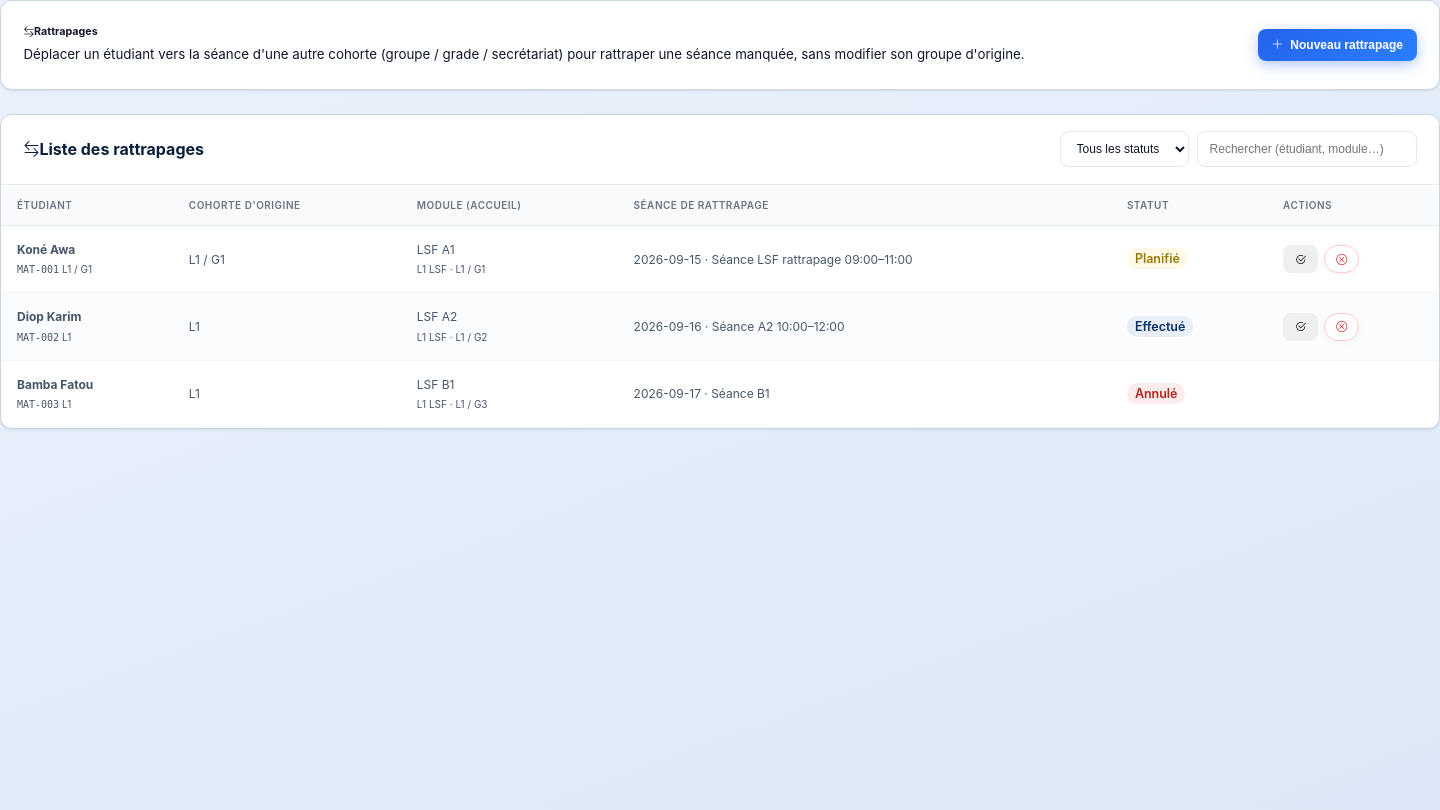
Test: Rattrapages — création › permet de retirer une séance sélectionnée
Expected: the text "MAT-001" is shown, [17, 264, 59, 275]
Click the button "Nouveau rattrapage" at (1337, 45), box [1258, 29, 1417, 61]
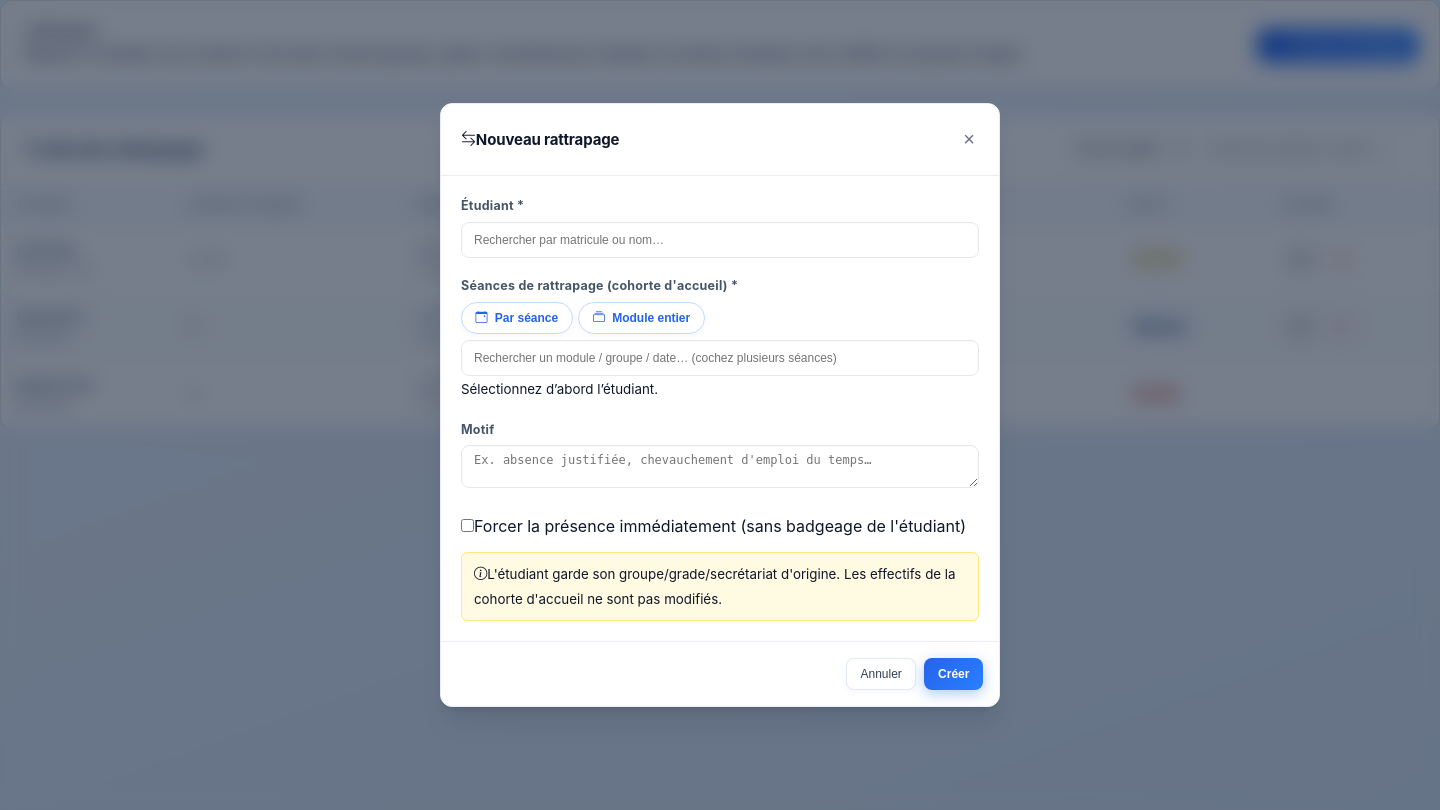
Expected: the heading "Nouveau rattrapage" is shown, [461, 128, 619, 152]
Focus the field with placeholder "Rechercher par matricule ou nom…" at (720, 240), box [461, 222, 979, 258]
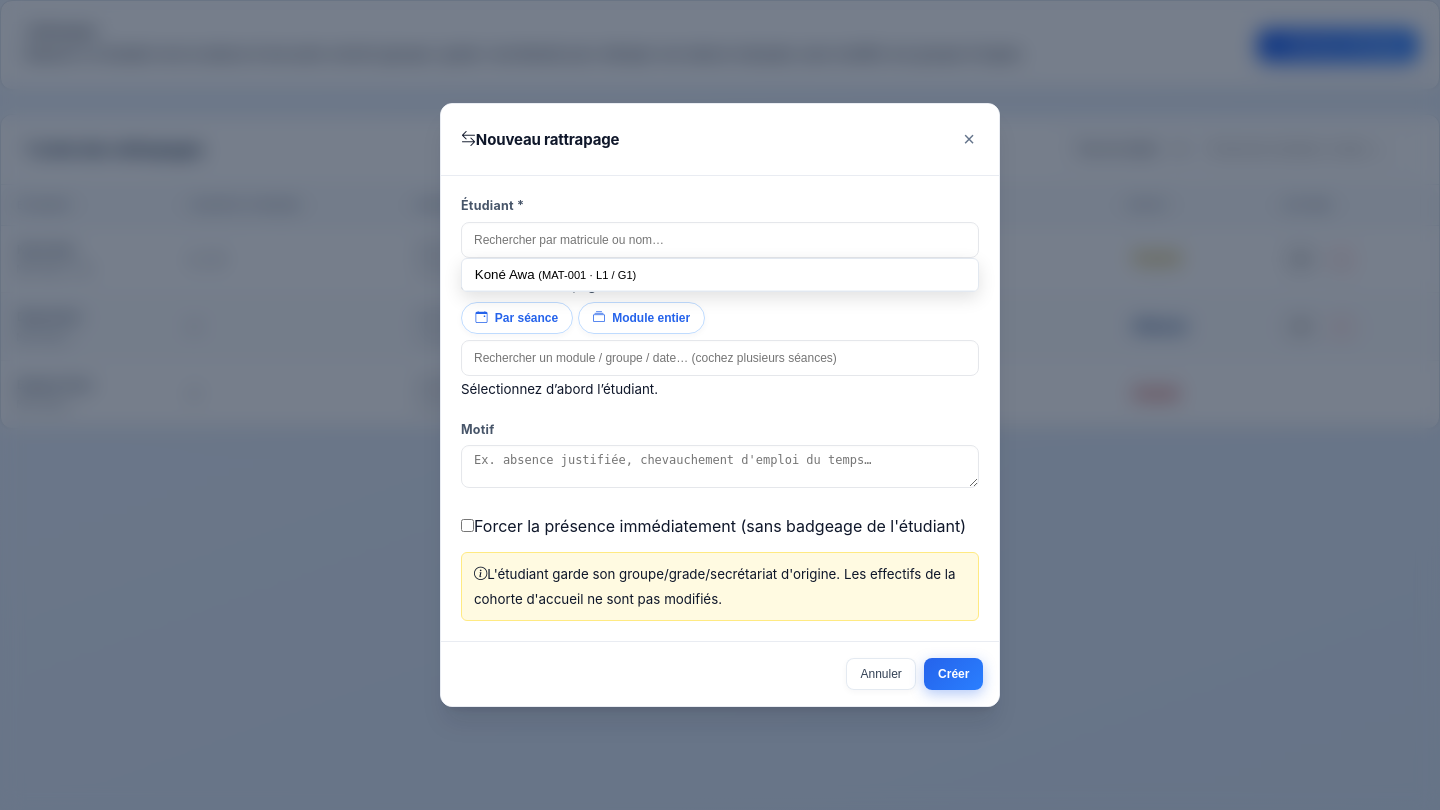
Click the button "Koné Awa (MAT-001 · L1 / G1)" at (490, 274), box [462, 259, 978, 291]
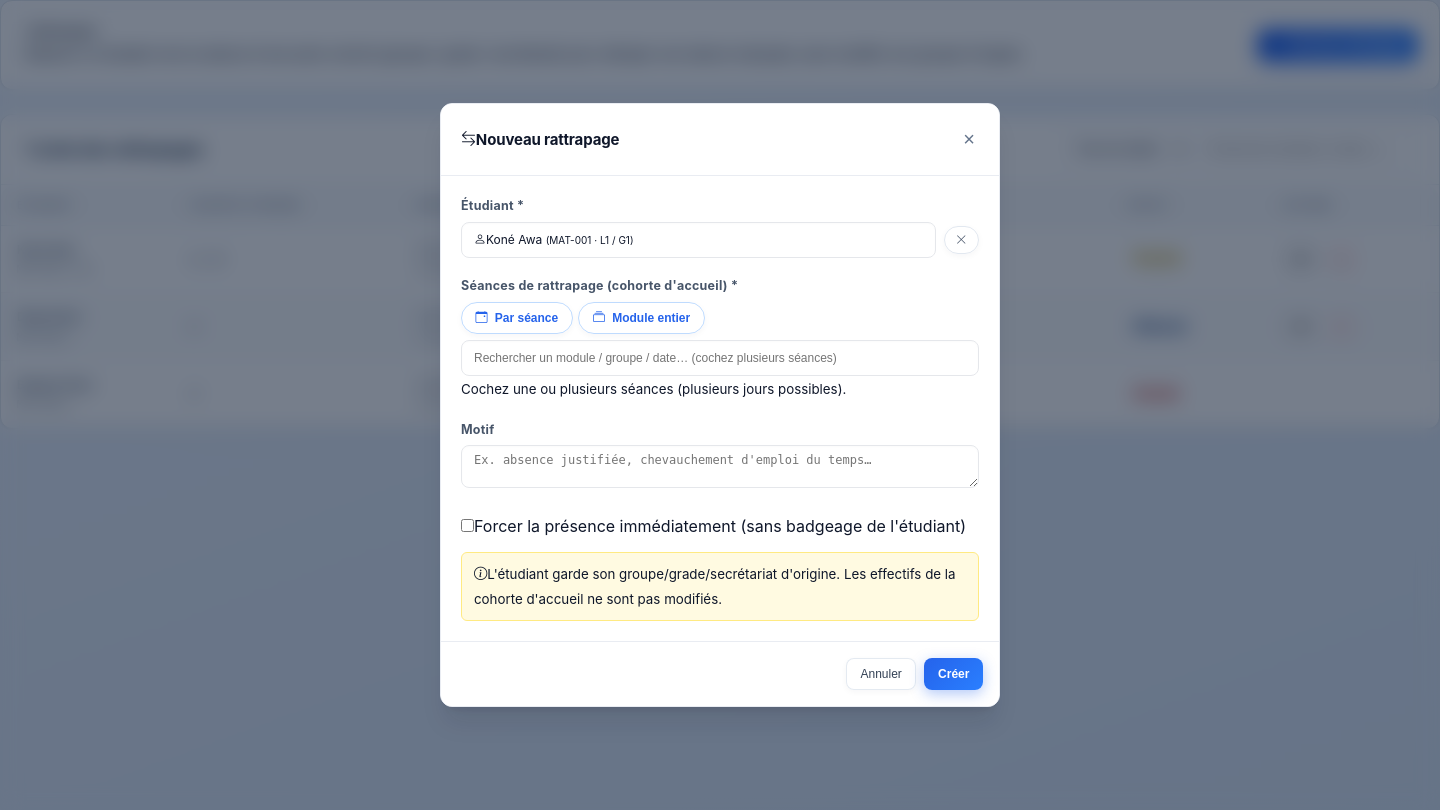
Expected: the text "(MAT-001 · L1 / G1)" is shown, [546, 234, 634, 246]
Focus the field with placeholder "Rechercher un module / groupe" at (720, 358), box [461, 340, 979, 376]
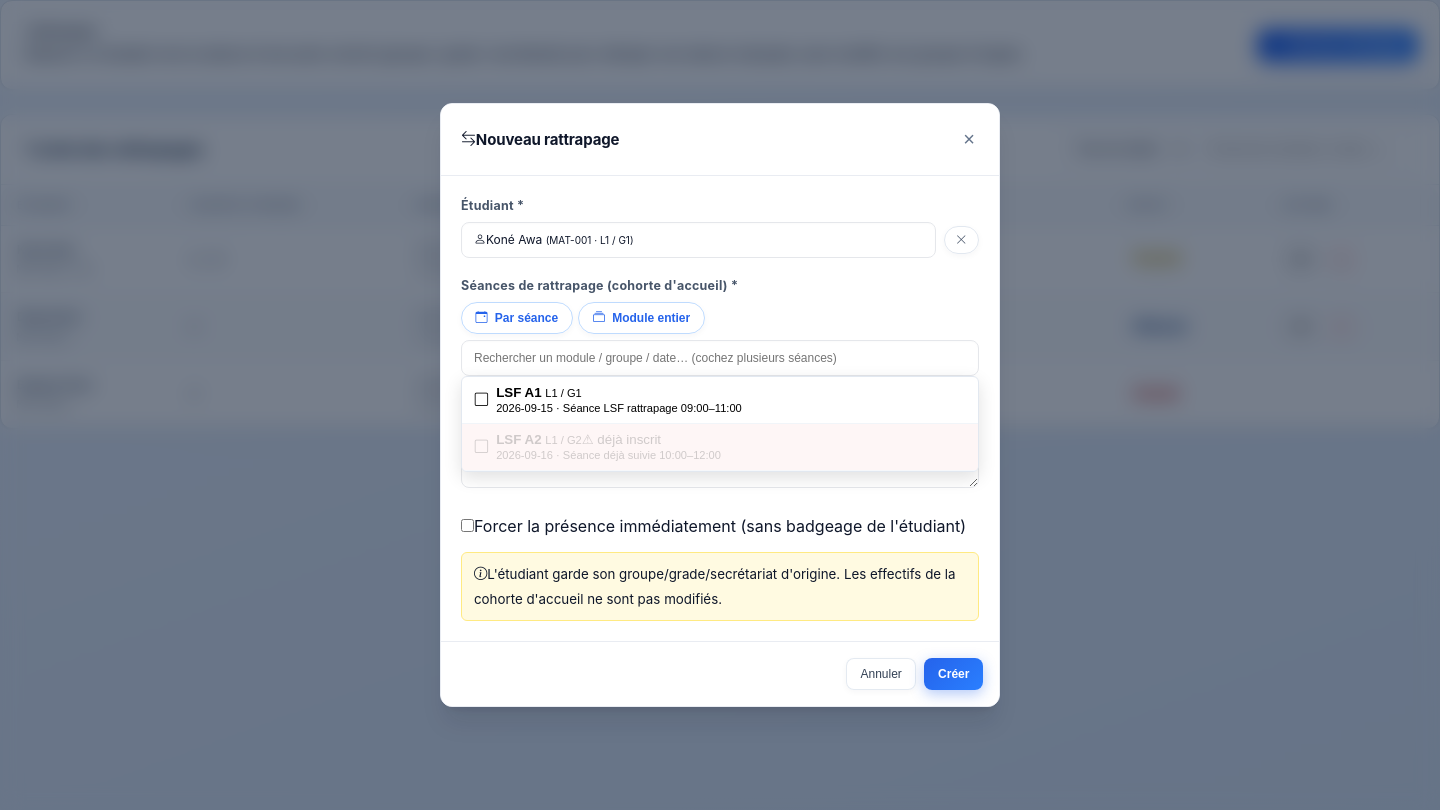
Click the button "LSF A1 L1 / G12026-09-15 · Séance LSF rattrapage 09:00–11:00" at (720, 400), box [462, 377, 978, 424]
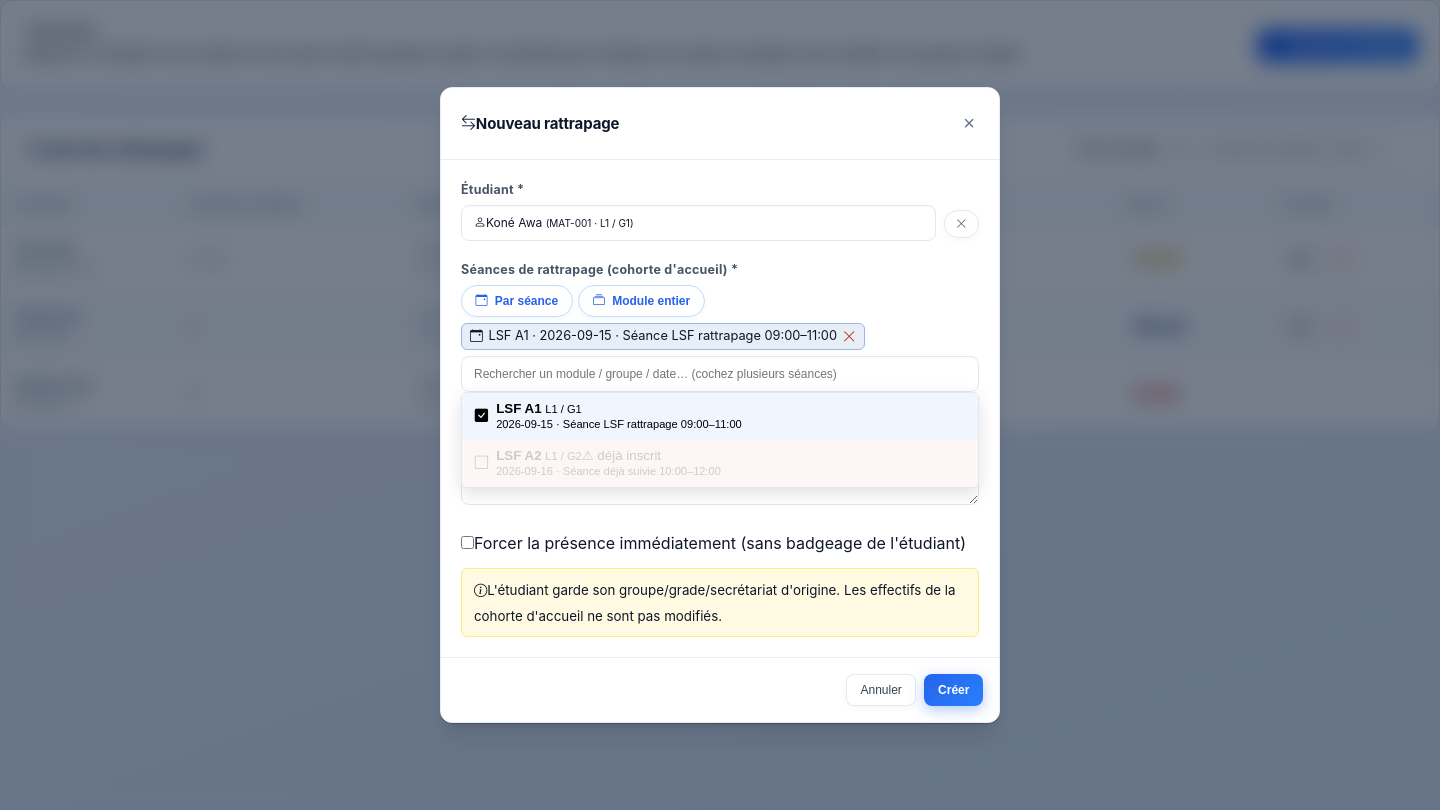
Expected: the number of buttons titled "Retirer" is 1
Click the button titled "Retirer" at (849, 337), box [843, 329, 856, 344]
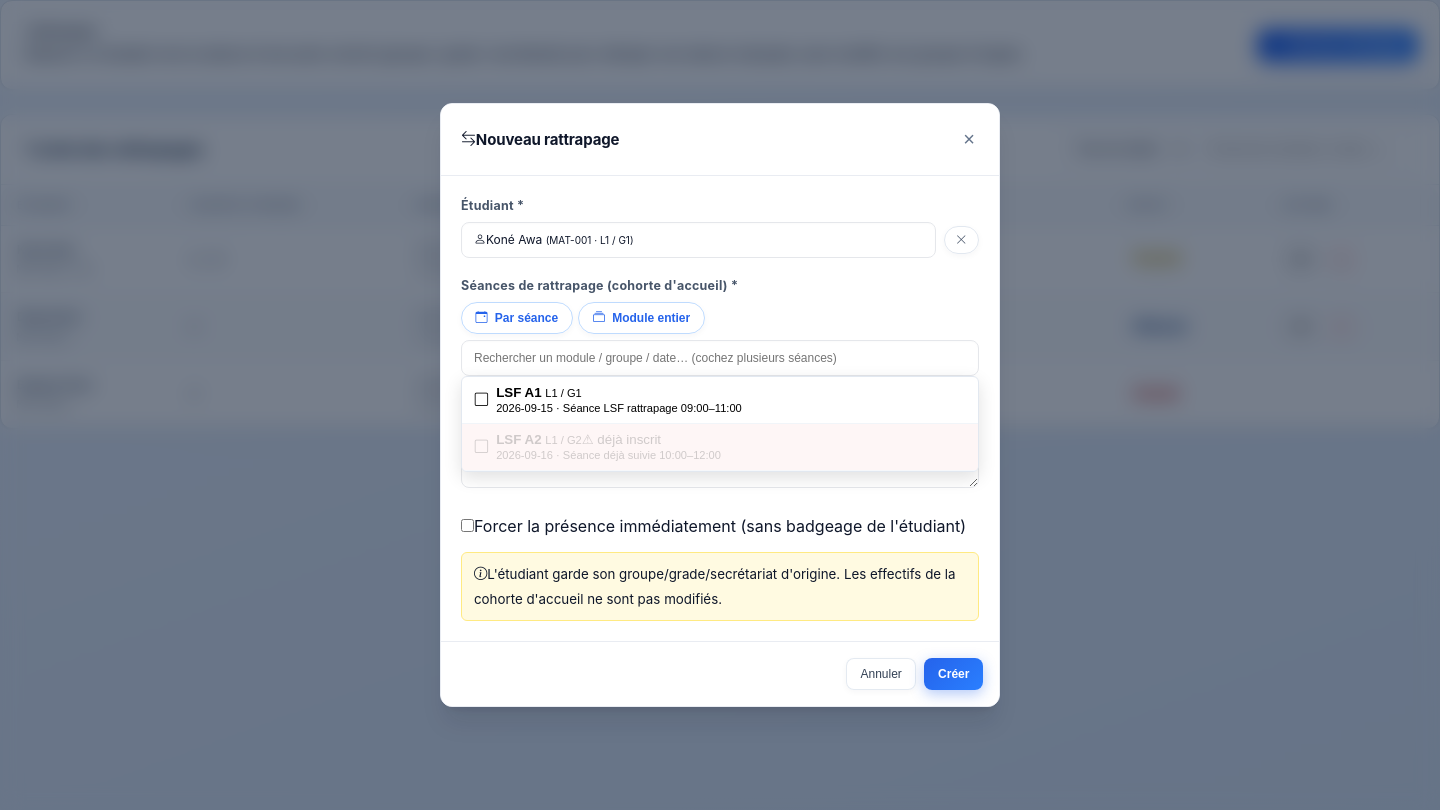
Expected: no buttons titled "Retirer" are shown
